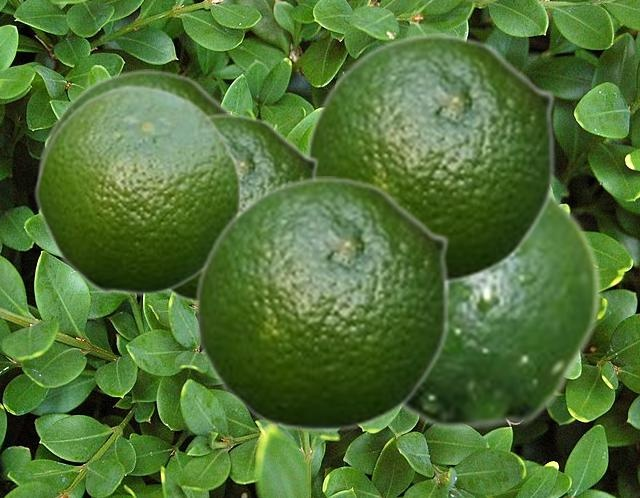calamansi: (194, 176, 450, 432), (305, 33, 556, 284), (397, 191, 602, 431), (33, 83, 242, 295), (37, 69, 244, 213), (169, 113, 319, 305)
